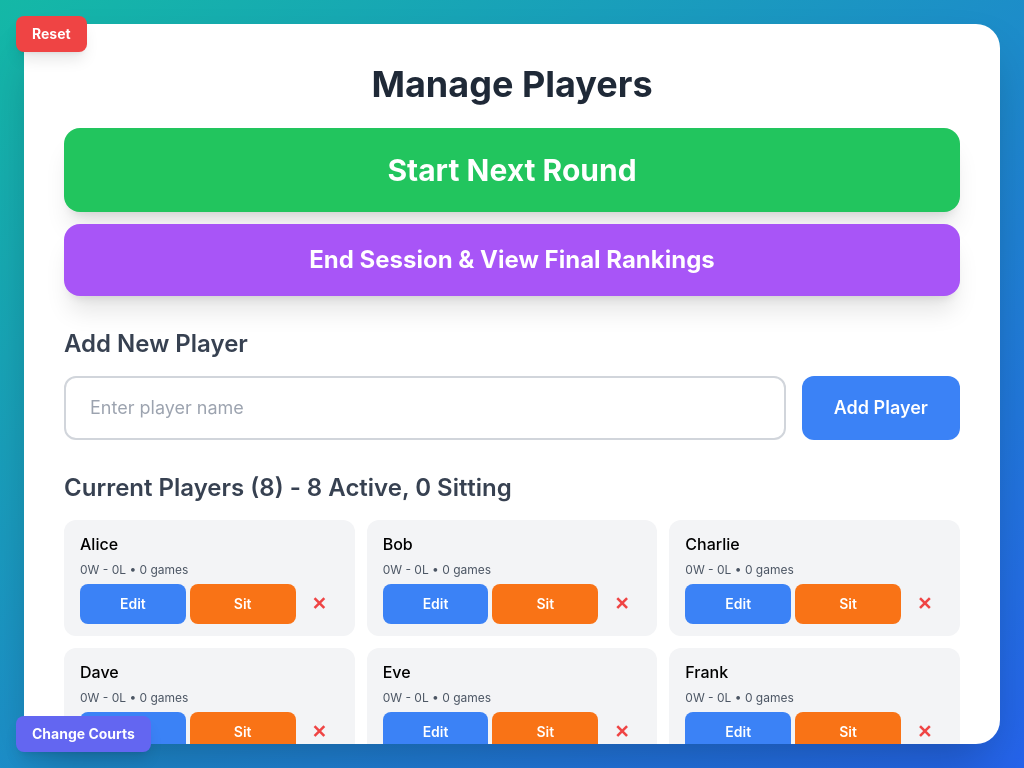
PlayerManager › Add Player Form › shows error for empty name
Click the button "Add Player": (881, 408) x1=802 y1=376 x2=960 y2=440
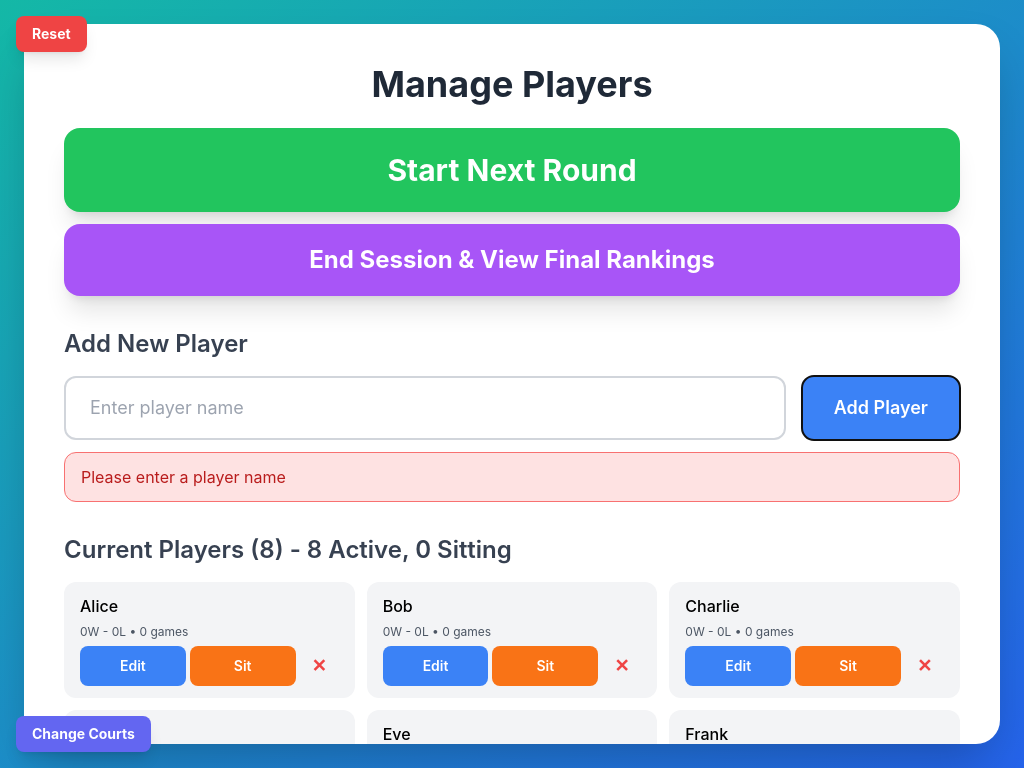
Result: the text "Please enter a player name" is shown at x1=64 y1=452 x2=960 y2=502
